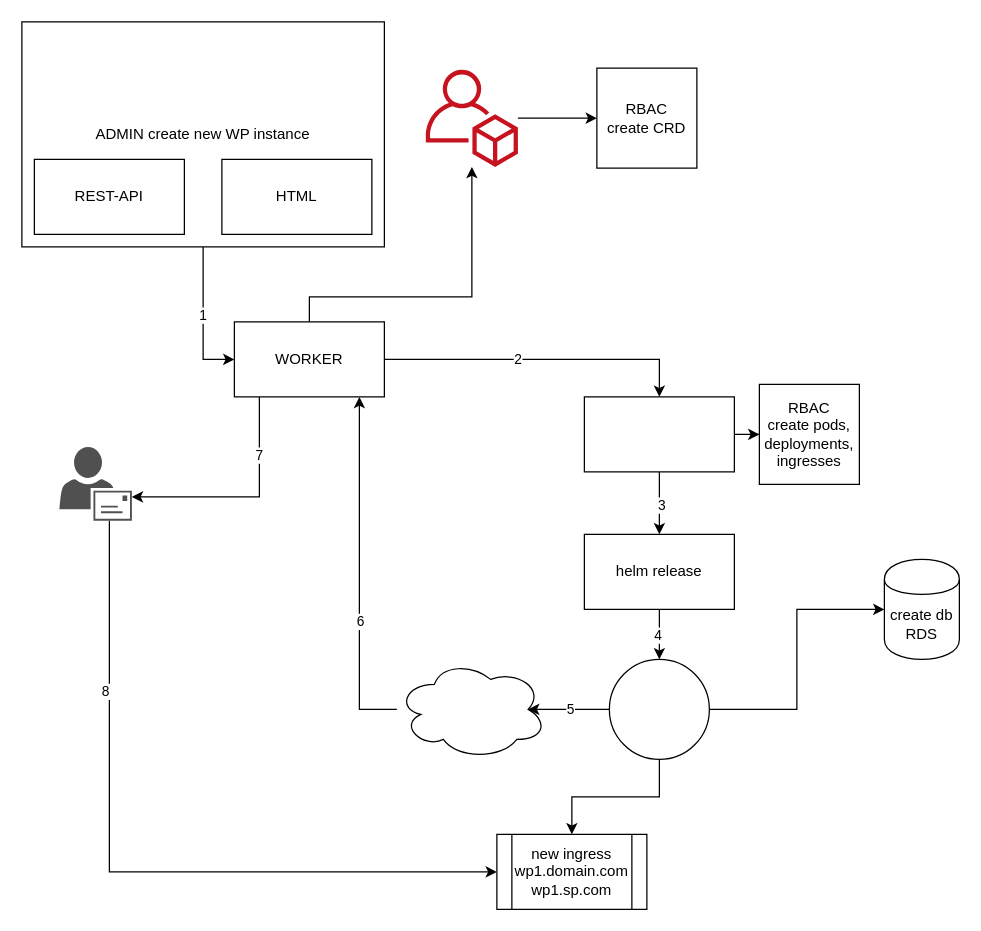
Image size: 981x931. Some labels were removed from this diagram. Each missing label, with the centre of its shape:
HELM OPERATOR (flux): pixel 658 434
mail with creds: pixel 95 483
new wordpress: pixel 658 708
service account: pixel 471 117
success: pixel 471 708
